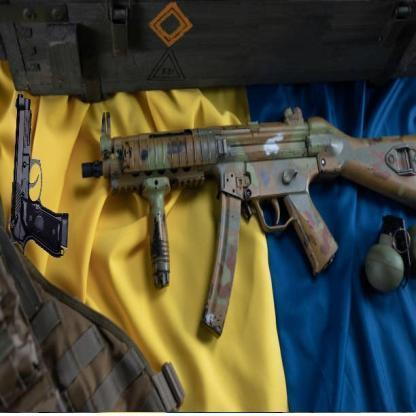Grenade: (366, 212, 412, 295)
Gun: (79, 106, 416, 338)
Pistol: (8, 93, 70, 258)
